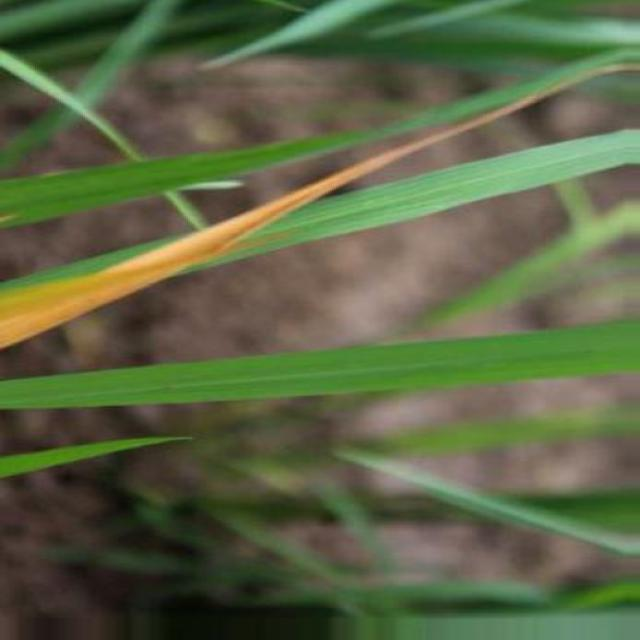Rice Tungro: (0, 91, 560, 347)
